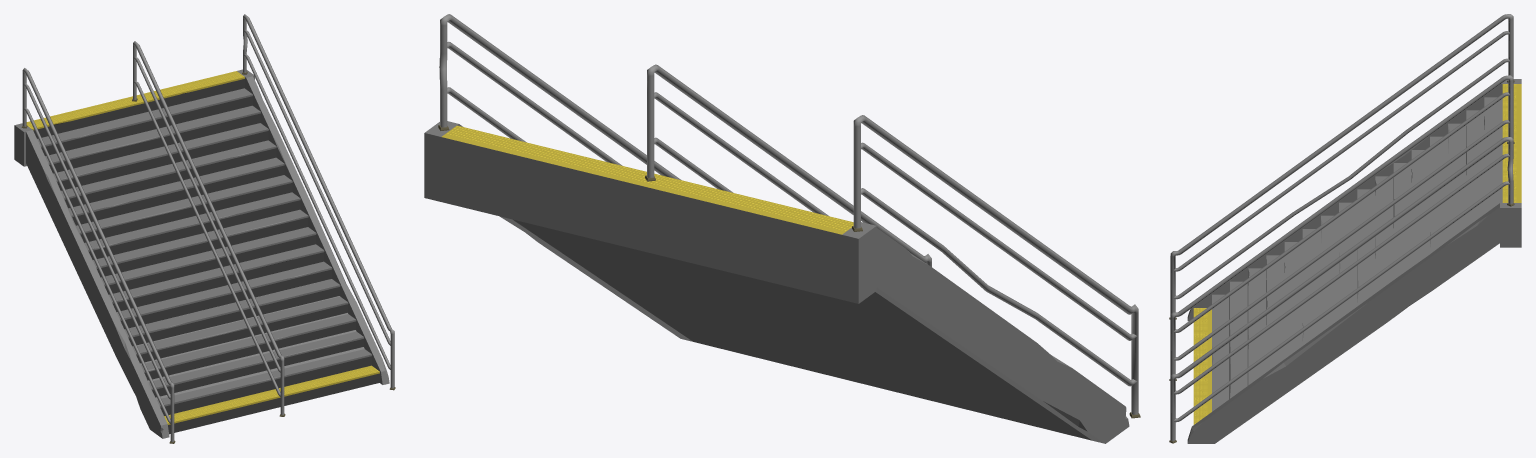
File: SW_ENV_StationStair_Long_Platform_FF.fbx
3 renders of one model, left to right at view 1: azimuth 30°, elevation 25°; view 2: azimuth 150°, elevation 25°; view 3: azimuth 270°, elevation 25°, orthographic. The views are drawn at different scales.
Parts seen in each view (by area): view 1: SW_ENV_StationStair_Long_Platform_FF; view 2: SW_ENV_StationStair_Long_Platform_FF; view 3: SW_ENV_StationStair_Long_Platform_FF.
Part boxes in pixels (x1,y1,x2,y2): SW_ENV_StationStair_Long_Platform_FF: (14,14,395,443); SW_ENV_StationStair_Long_Platform_FF: (424,14,1140,443); SW_ENV_StationStair_Long_Platform_FF: (1169,14,1521,443).
Size of the model in its own units: 4.2 by 4.64 by 4.85.
